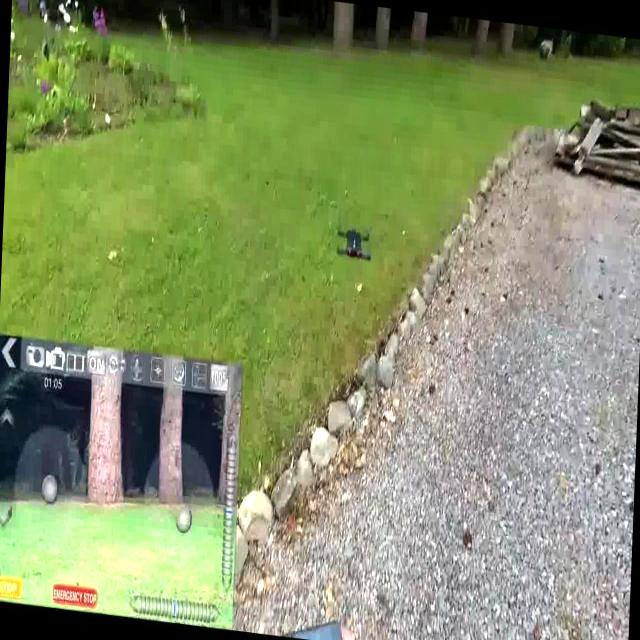drone: (326, 214, 384, 275)
